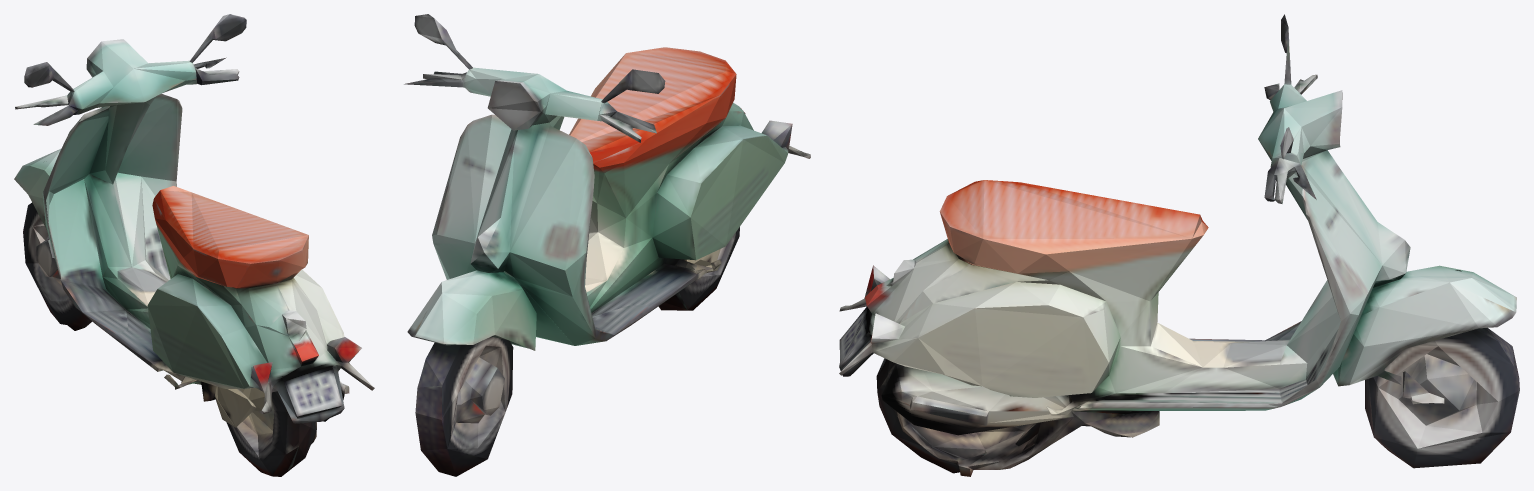
The model's file is two_wheeler.glb.
3 renders of one model, left to right at view 1: azimuth 30°, elevation 25°; view 2: azimuth 150°, elevation 25°; view 3: azimuth 270°, elevation 25°, orthographic. The views are drawn at different scales.
Parts seen in each view (by area): view 1: geometry_0; view 2: geometry_0; view 3: geometry_0.
Part boxes in pixels (x1=…): geometry_0: x1=14, y1=14, x2=374, y2=476; geometry_0: x1=404, y1=14, x2=810, y2=476; geometry_0: x1=839, y1=14, x2=1519, y2=476.
Bounding box in the file's own units: 0.4473 × 0.6461 × 0.9956.
1 material, 1 textured.
